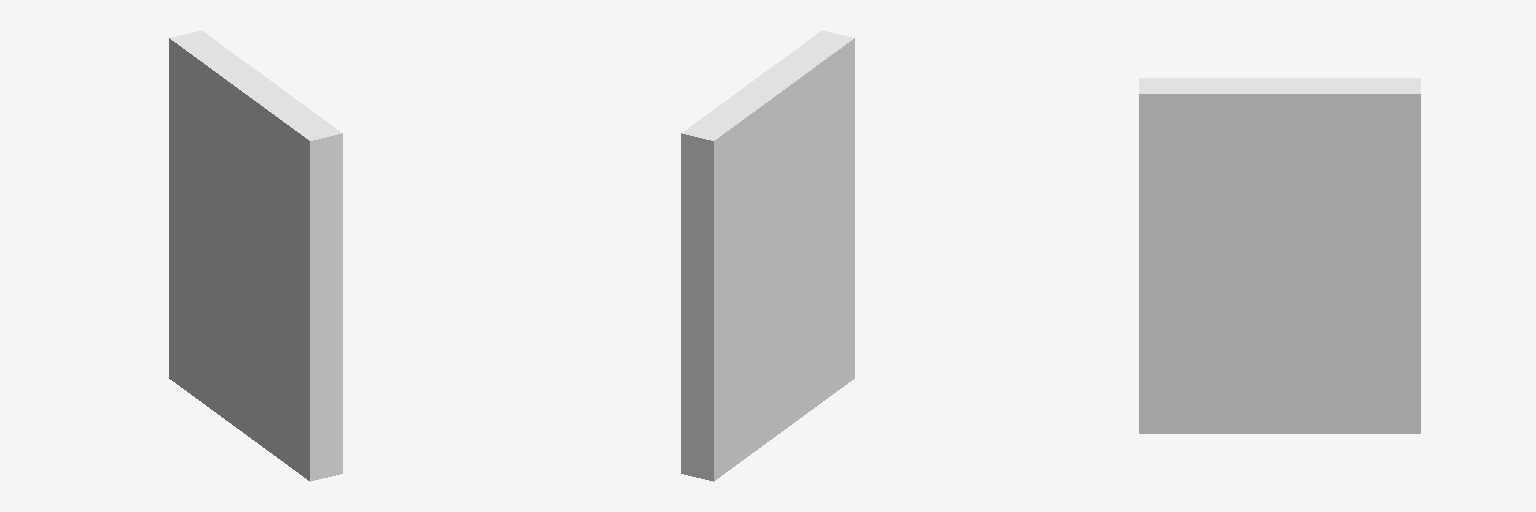
Rendered from Volt-1-vhod-2.obj.
3 renders of one model, left to right at view 1: azimuth 30°, elevation 25°; view 2: azimuth 150°, elevation 25°; view 3: azimuth 270°, elevation 25°, orthographic.
Parts seen in each view (by area): view 1: vhod-2; view 2: vhod-2; view 3: vhod-2.
Part boxes in pixels (bbox=[...]): vhod-2: bbox=[169, 30, 342, 481]; vhod-2: bbox=[681, 30, 854, 481]; vhod-2: bbox=[1139, 78, 1420, 433].
Size of the model in its own units: 0.2 by 2 by 1.5.